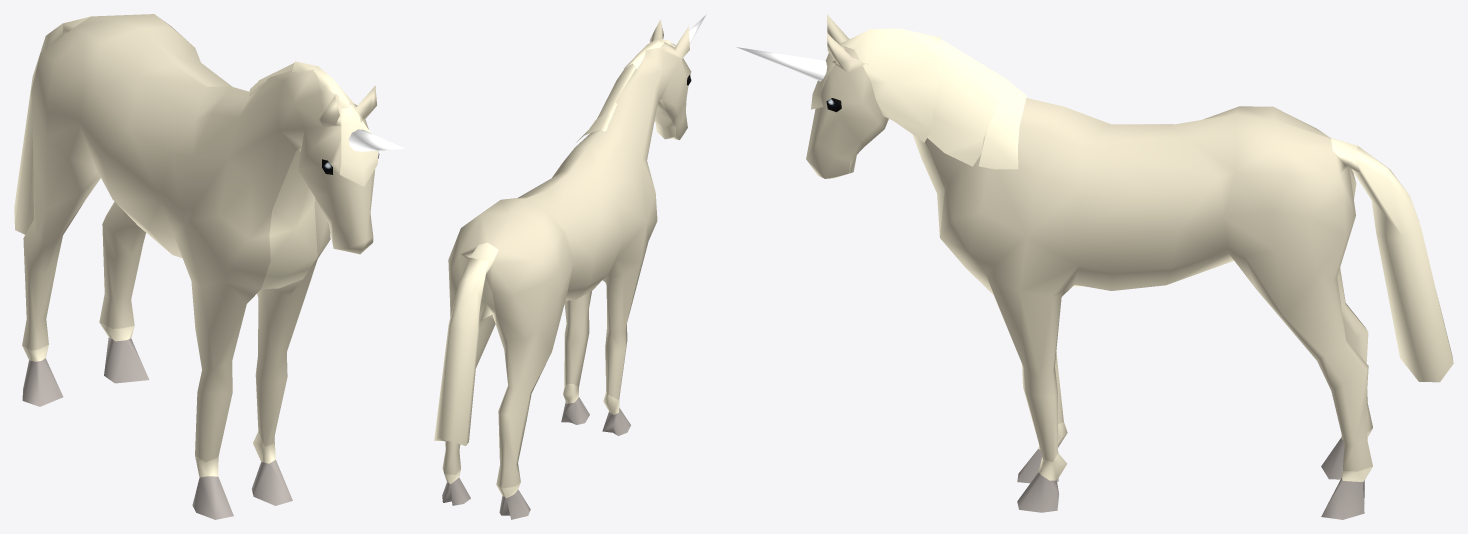
Rendered from 6f340dc1-cbcf-4c4d-8eb0-e1e72ab29430.glb.
The picture shows the model from 3 angles, left to right: view 1: azimuth 30°, elevation 25°; view 2: azimuth 150°, elevation 25°; view 3: azimuth 270°, elevation 25°; orthographic projection. The views are drawn at different scales.
Visible parts, largest first — view 1: Unicorn; view 2: Unicorn; view 3: Unicorn.
Boxes of the visible parts, bbox=[...] form: Unicorn: bbox=[14, 14, 405, 519]; Unicorn: bbox=[434, 14, 706, 519]; Unicorn: bbox=[736, 14, 1453, 519].
Size of what is drawn, in the model's own units: 0.6862 by 2.26 by 3.14.
1 material, 1 textured.
